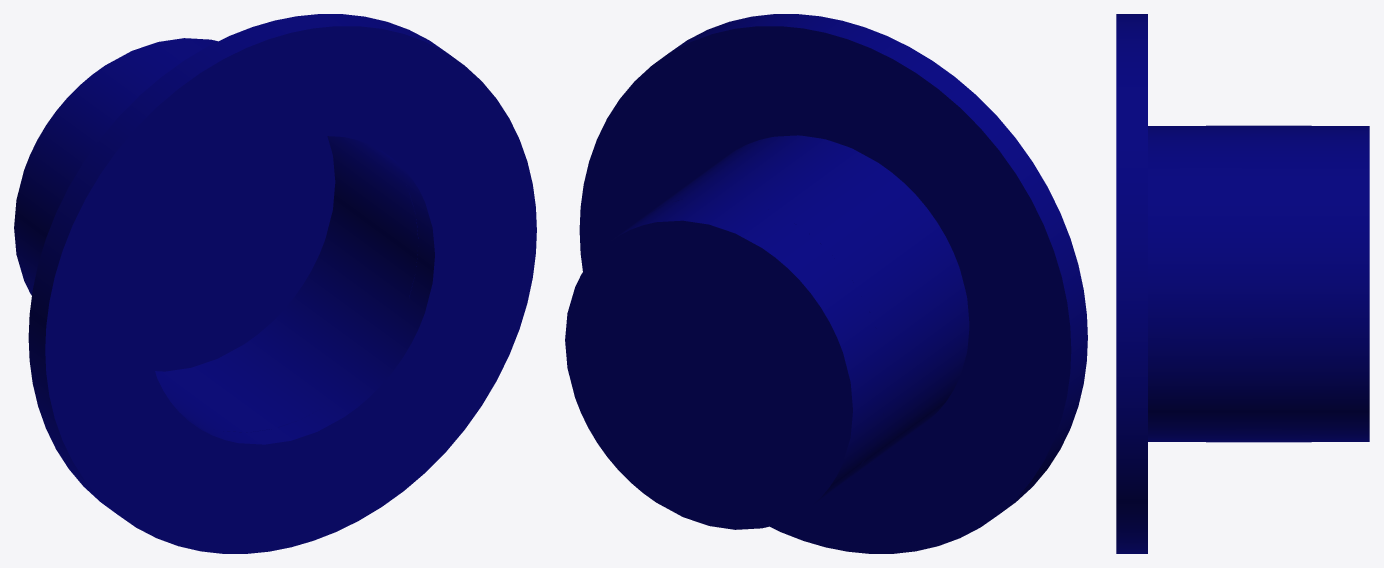
The model's file is Cartola v0.fbx.
3 renders of one model, left to right at view 1: azimuth 30°, elevation 25°; view 2: azimuth 150°, elevation 25°; view 3: azimuth 270°, elevation 25°, orthographic. The views are drawn at different scales.
Parts seen in each view (by area): view 1: Body1; view 2: Body1; view 3: Body1.
Part boxes in pixels (x1=…): Body1: x1=14, y1=14, x2=536, y2=553; Body1: x1=565, y1=14, x2=1087, y2=553; Body1: x1=1116, y1=14, x2=1369, y2=553.
Bounding box in the file's own units: 85.36 × 85.36 × 40.
